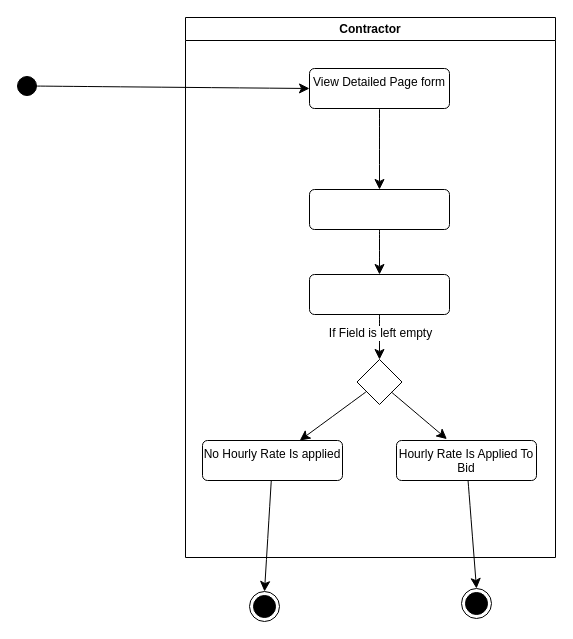
Some shapes in this 573 by 639 pixel diagram are drawn without their labels. Each missing label, with the centre of its shape:
"Input Number Of Hours Worked" goes at [379,209].
"Submit Form" goes at [379,294].
